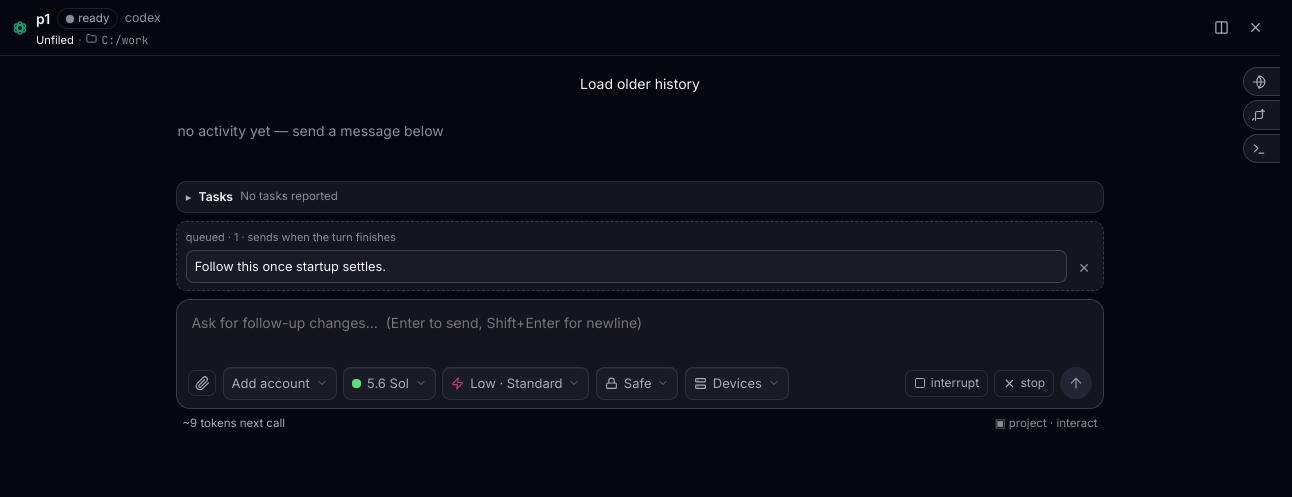
Test: transcript interaction boundaries › restores a failed submission ahead of any newer text without losing either
This screenshot has width=1292, height=497.
Replace the text in the text box with "Retry this message.": (640, 333) [188,310,1092,356]
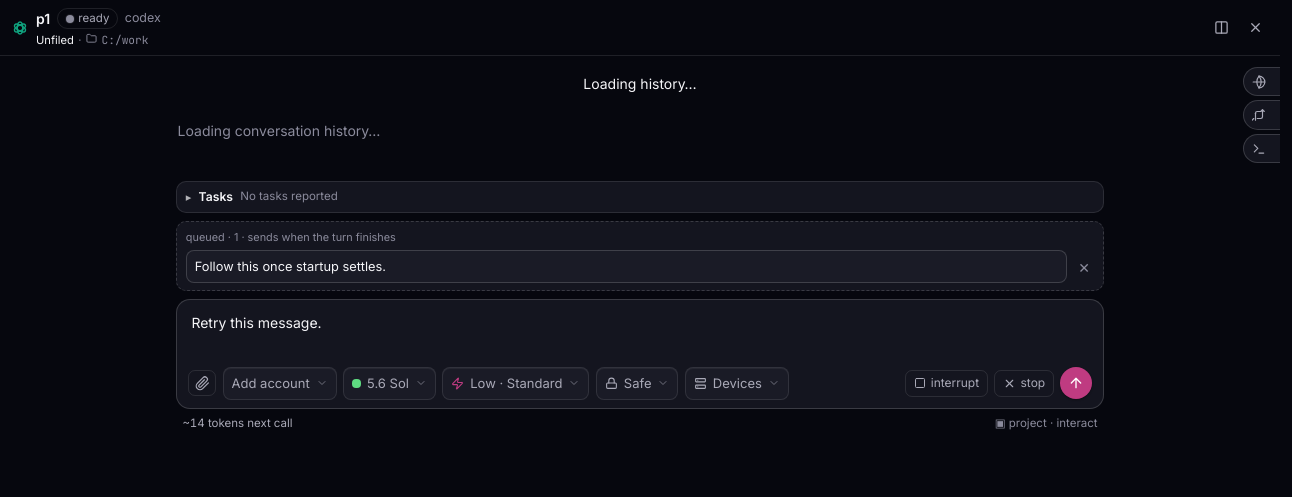
Press Enter in the text box, box [188,310,1092,356]
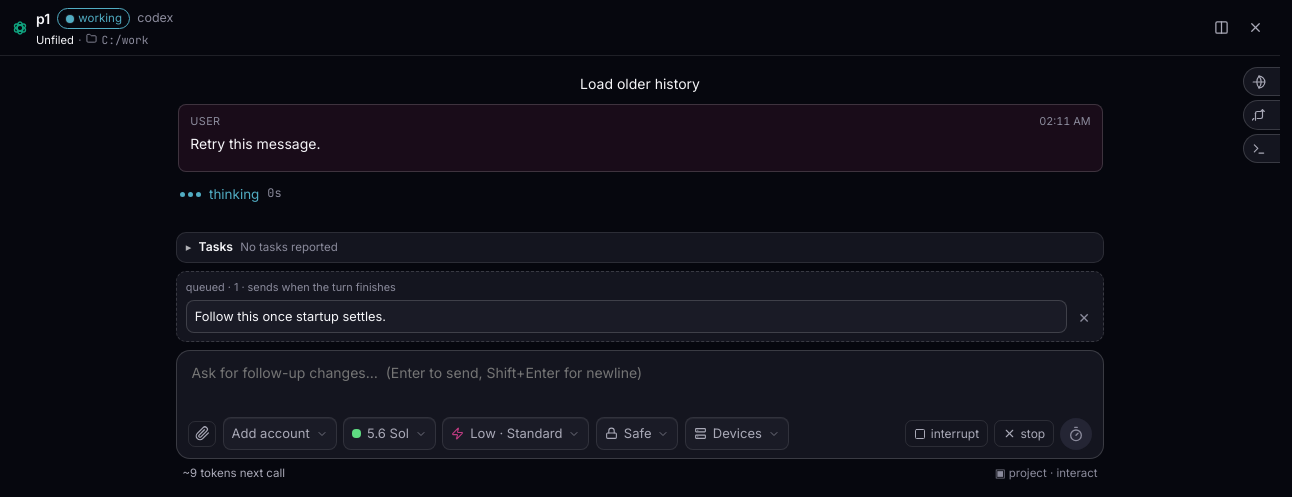
Replace the text in the text box with "New text stays too.": (640, 383) [188,360,1092,406]
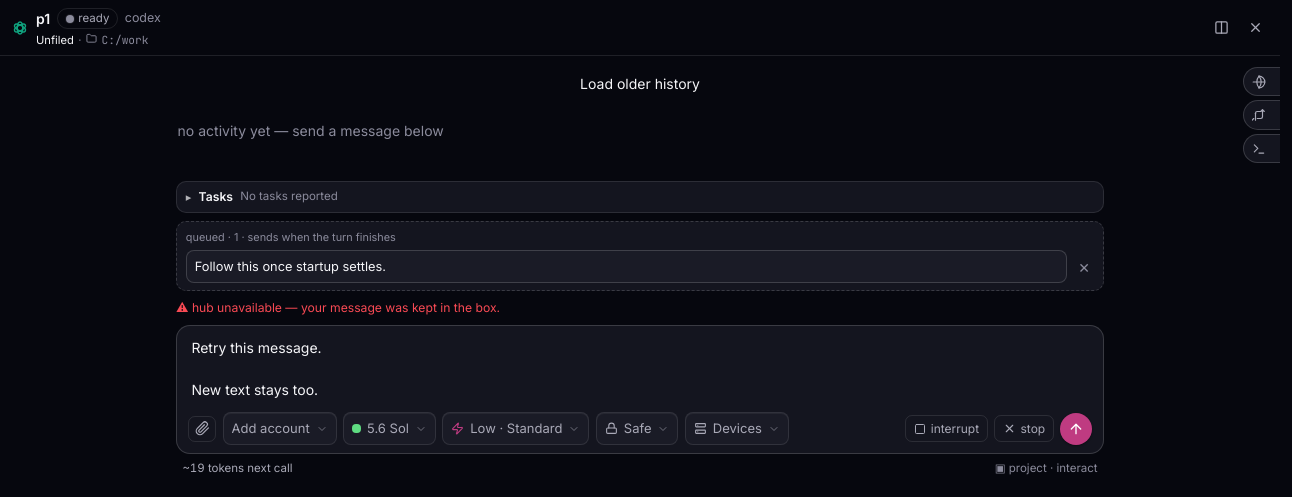
expect the message shows "hub unavailable": met, box [176,300,500,315]
